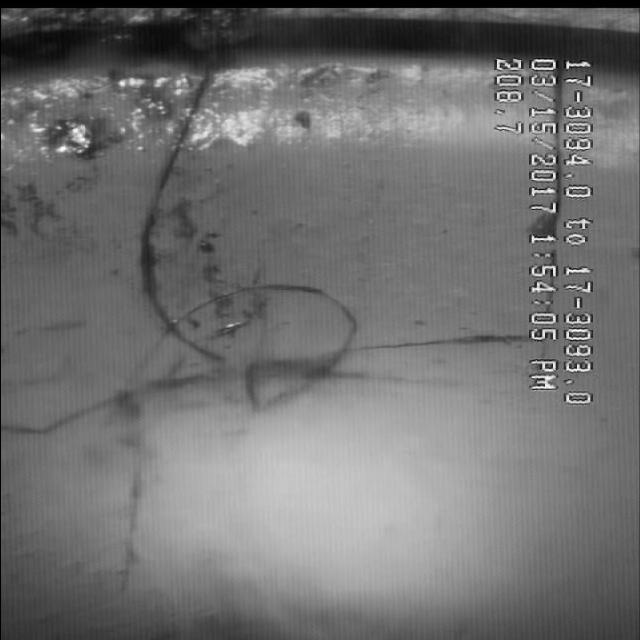Crack: (110, 75, 239, 339)
